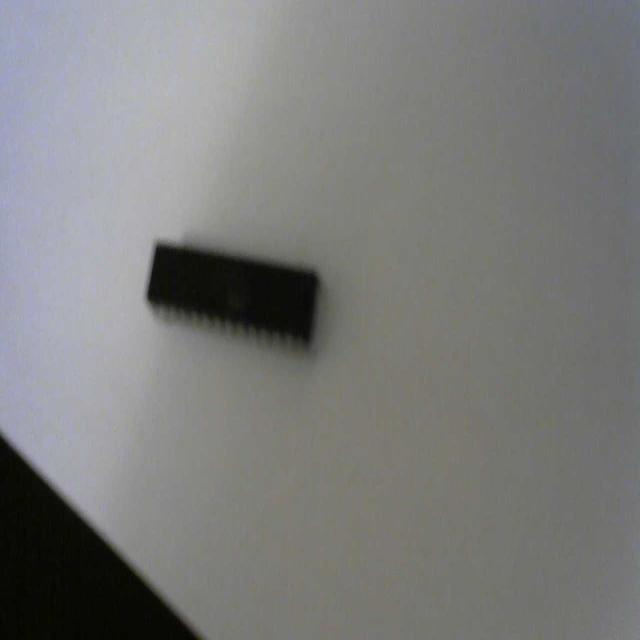atmega: (143, 233, 321, 355)
